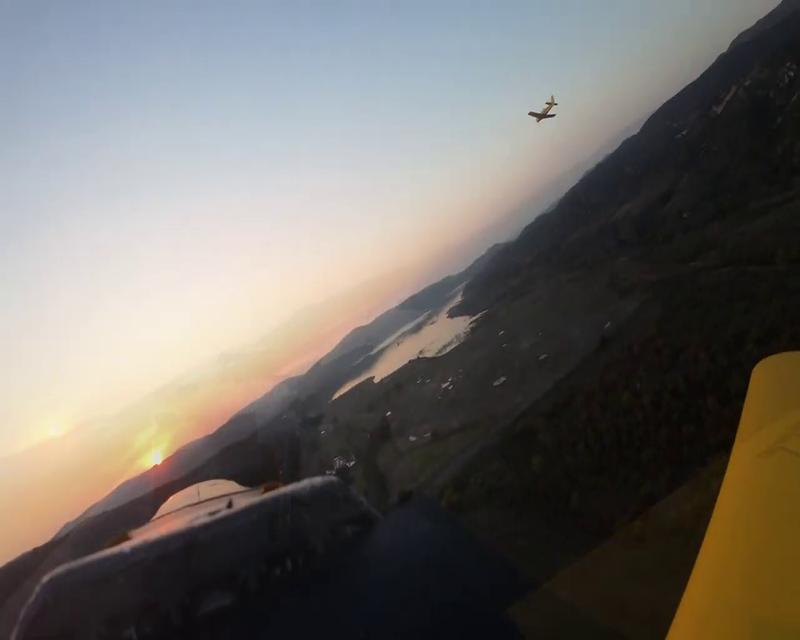UAV: (526, 93, 558, 124)
